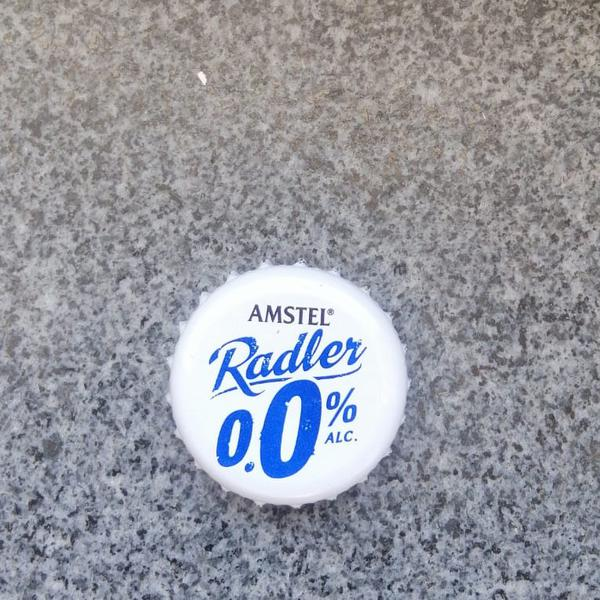amstelradler0.0: (161, 251, 420, 518)
